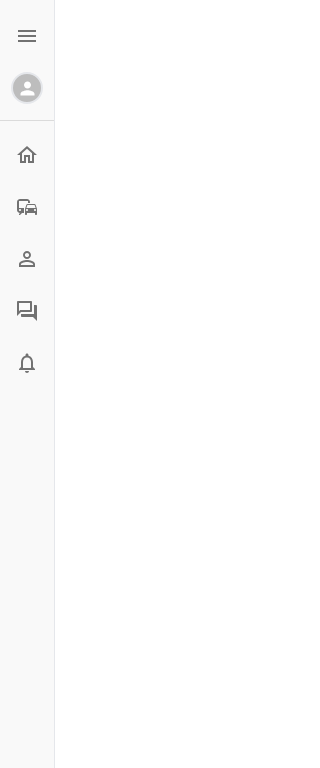
Test: Sidebar › closes when chevron button is clicked while open
Click the button with test id "MenuIcon".
click(27, 36)  # box [7, 16, 47, 56]
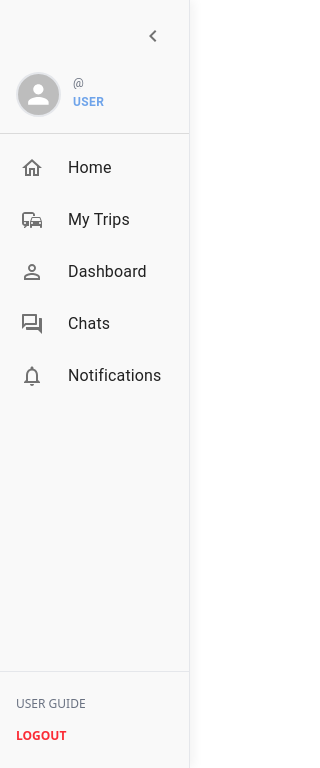
Click the button with test id "MenuIcon".
click(153, 36)  # box [133, 16, 173, 56]
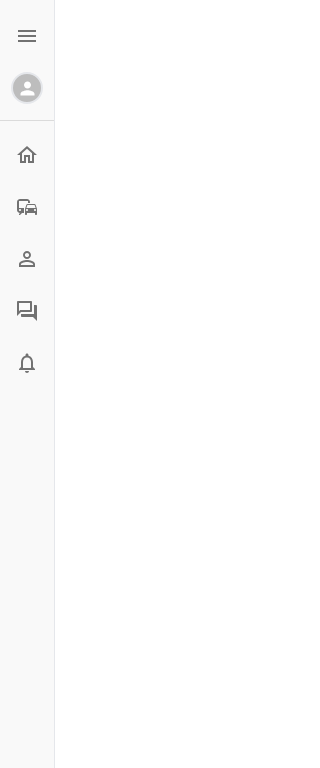
Check: the button "Home" is gone
